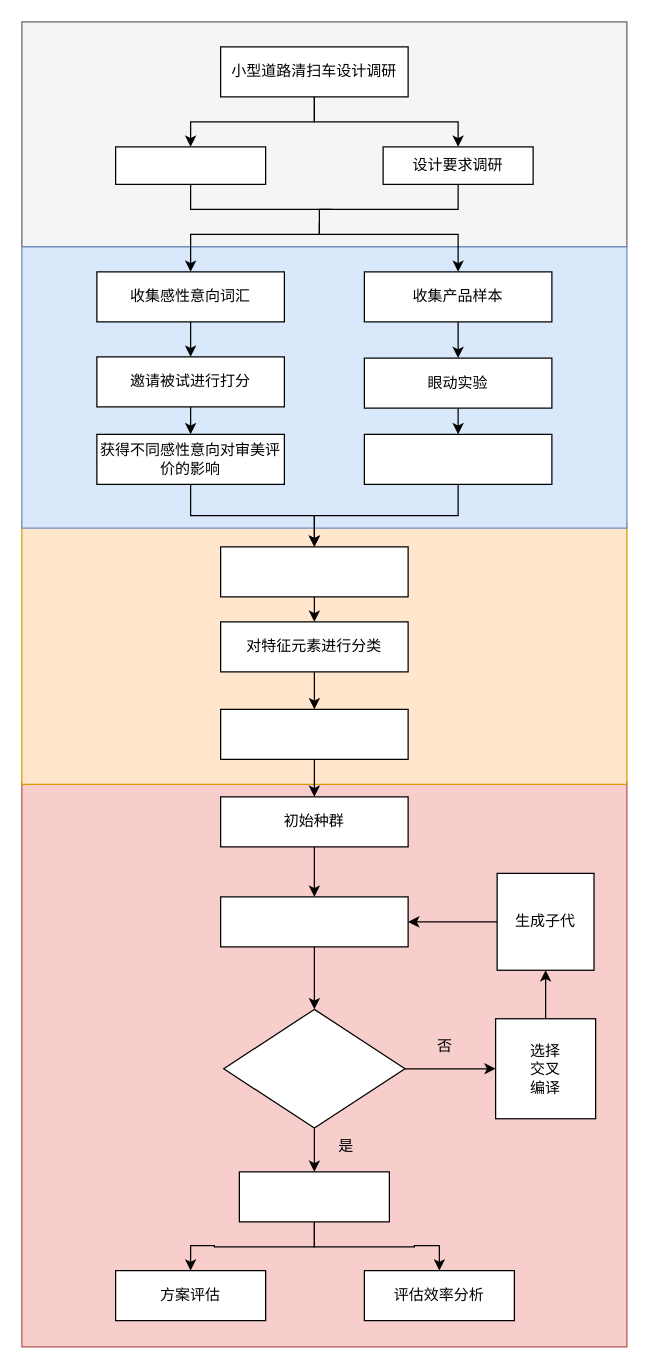
This 649x1369 diagram has some shape labels left out. The centre of each missing label's shape, as x and y in pixels:
从关键部件提取特征元素: (313,571)
建立意向语义与形态关系映射: (313,733)
方案建模: (313,1196)
求解适应度值: (313,921)
满足进化终止条件？: (313,1068)
结构调研: (190,165)
计算感性意向下设计要素贡献得分: (457,458)
